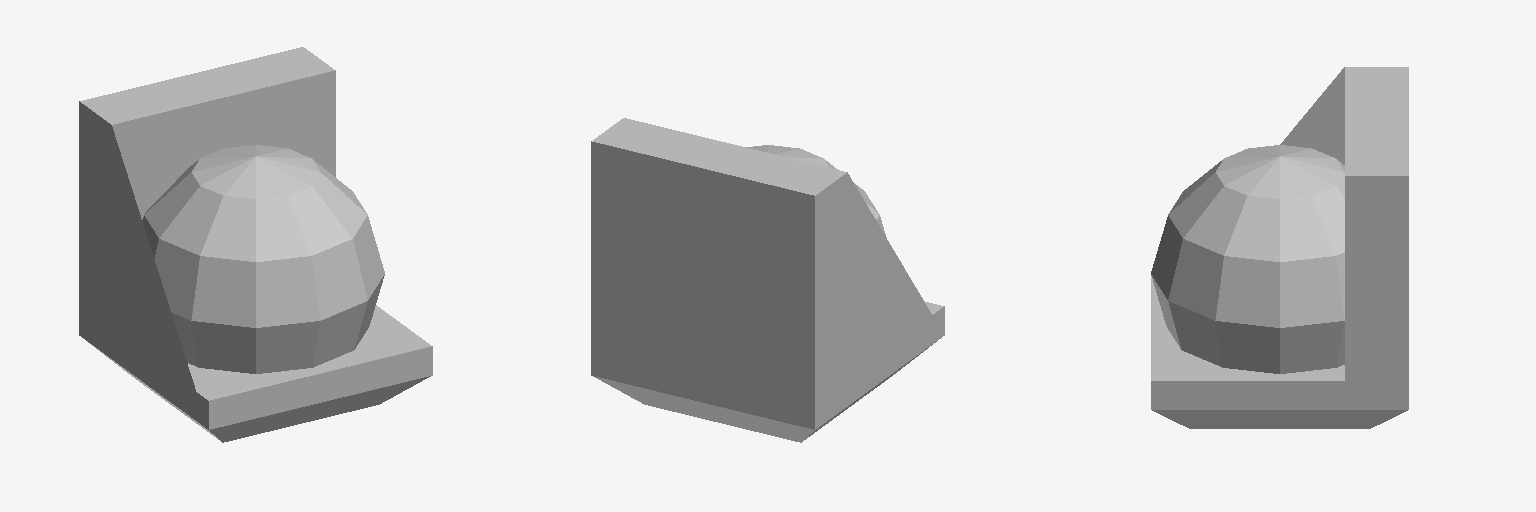
Rendered from UnownFoot.obj.
3 views of the same model, side by side, from view 1: azimuth 30°, elevation 25°; view 2: azimuth 150°, elevation 25°; view 3: azimuth 270°, elevation 25° (orthographic).
Visible parts, largest first — view 1: Cube, 球; view 2: Cube, 球; view 3: Cube, 球.
Boxes of the visible parts, <box> form: Cube: <box>79,47,432,442</box>; 球: <box>142,145,384,373</box>; Cube: <box>591,118,944,442</box>; 球: <box>746,145,886,237</box>; Cube: <box>1151,67,1408,428</box>; 球: <box>1151,145,1344,373</box>.
Bounding box in the file's own units: 2 × 2.3 × 2.